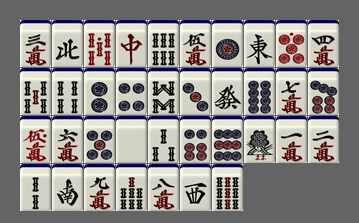0m: (20, 116, 51, 163)
0p: (276, 20, 307, 67)
0s: (84, 20, 115, 67)
1m: (276, 116, 307, 163)
1p: (212, 20, 243, 67)
1s: (244, 116, 275, 163)
1z: (244, 20, 275, 67)
2m: (308, 116, 339, 163)
2p: (84, 68, 115, 115)
2s: (20, 164, 51, 211)
2z: (52, 164, 83, 211)
3m: (20, 20, 51, 67)
3p: (180, 68, 211, 115)
3s: (148, 116, 179, 163)
3z: (180, 164, 211, 211)
4m: (308, 20, 339, 67)
4p: (116, 68, 147, 115)
4s: (52, 68, 83, 115)
4z: (52, 20, 83, 67)
5m: (180, 20, 211, 67)
5p: (84, 116, 115, 163)
5s: (20, 68, 51, 115)
5z: (116, 116, 147, 163)
6m: (52, 116, 83, 163)
6p: (180, 116, 211, 163)
6s: (148, 20, 179, 67)
6z: (212, 68, 243, 115)
7m: (276, 68, 307, 115)
7p: (308, 68, 339, 115)
7s: (116, 164, 147, 211)
7z: (116, 20, 147, 67)
8m: (148, 164, 179, 211)
8p: (244, 68, 275, 115)
8s: (148, 68, 179, 115)
9m: (84, 164, 115, 211)
9p: (212, 116, 243, 163)
9s: (212, 164, 243, 211)
